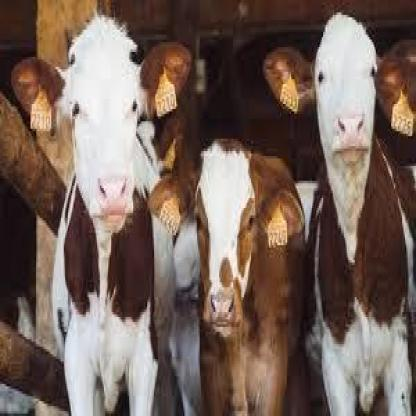cow: (11, 17, 196, 416), (265, 12, 416, 416), (145, 138, 307, 416)
